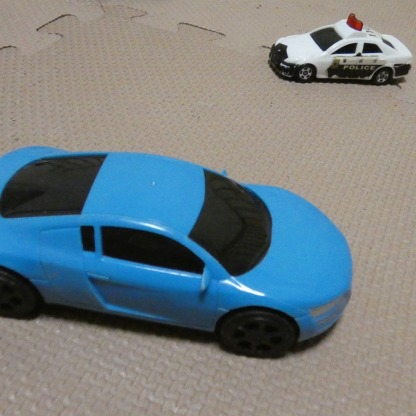car: (0, 147, 360, 359), (271, 19, 412, 86)
